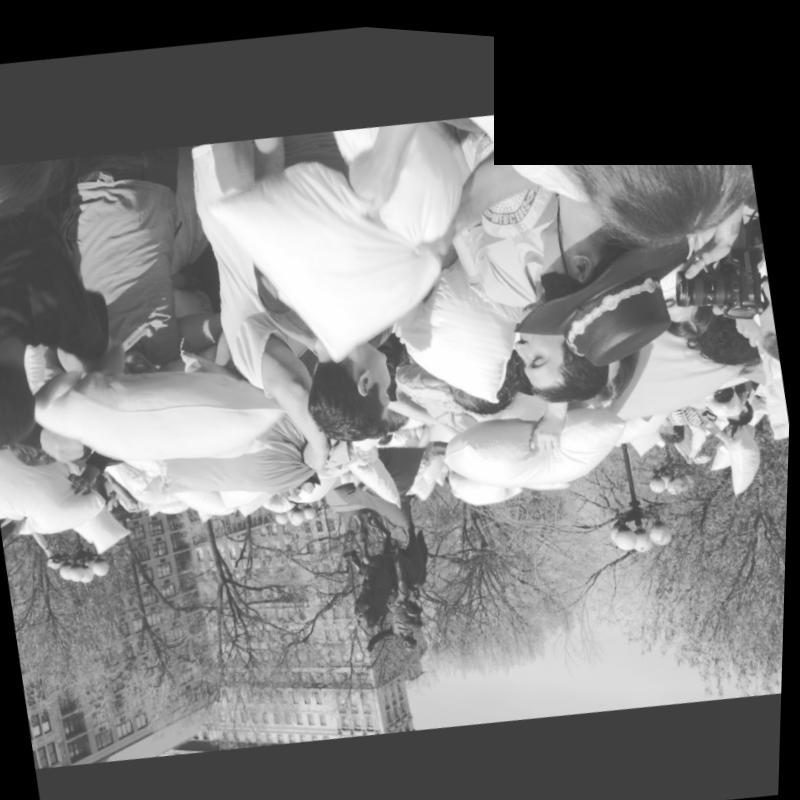pillow: (198, 97, 496, 383), (30, 333, 272, 487), (378, 224, 540, 413), (438, 380, 640, 501), (601, 304, 766, 423), (0, 429, 107, 549), (334, 432, 440, 530), (67, 491, 138, 564), (344, 428, 407, 507), (721, 415, 770, 494), (169, 474, 242, 521), (759, 336, 793, 428), (117, 463, 176, 509), (617, 397, 675, 438), (289, 466, 346, 503), (109, 456, 156, 494), (633, 412, 671, 450), (225, 476, 265, 508), (710, 420, 737, 459), (152, 500, 188, 515)
